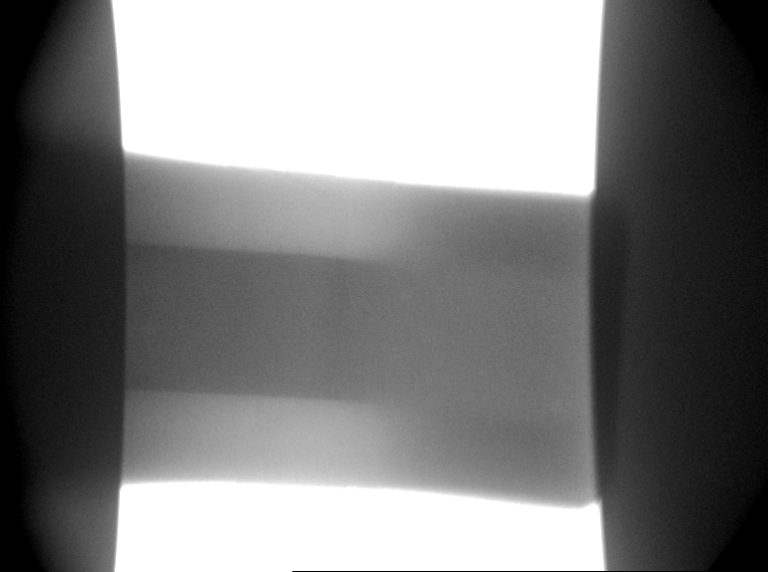defect: (134, 312, 163, 346)
